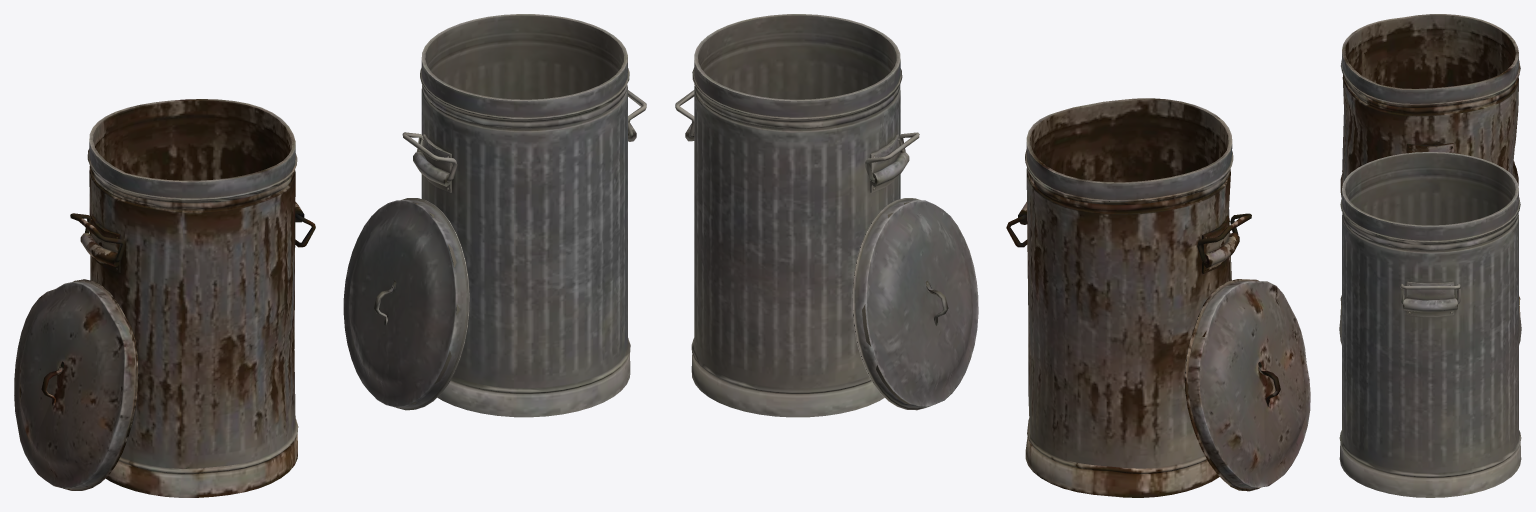
Rendered from p_metal_trash_can.glb.
The picture shows the model from 3 angles, left to right: view 1: azimuth 30°, elevation 25°; view 2: azimuth 150°, elevation 25°; view 3: azimuth 270°, elevation 25°; orthographic projection. The views are drawn at different scales.
Parts seen in each view (by area): view 1: metal_trash_can_handle_left, metal_trash_can_rust; view 2: metal_trash_can_handle_left, metal_trash_can_rust; view 3: metal_trash_can_handle_left, metal_trash_can_rust.
Boxes of the visible parts, x1,y1,x2,y2 form: metal_trash_can_handle_left: (343, 14, 646, 417); metal_trash_can_rust: (14, 99, 315, 497); metal_trash_can_handle_left: (675, 14, 978, 417); metal_trash_can_rust: (1006, 98, 1310, 497); metal_trash_can_handle_left: (1339, 152, 1521, 497); metal_trash_can_rust: (1340, 14, 1520, 317).
Bounding box in the file's own units: 1.78 × 0.9062 × 0.5543.
2 materials, 2 textured.
